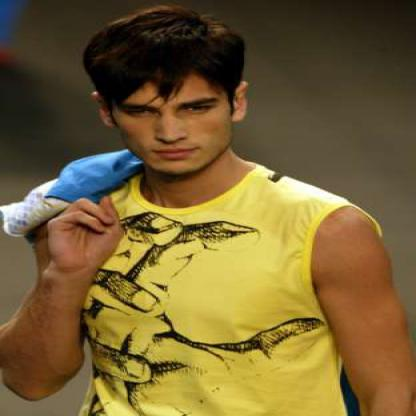face: (113, 29, 237, 176)
